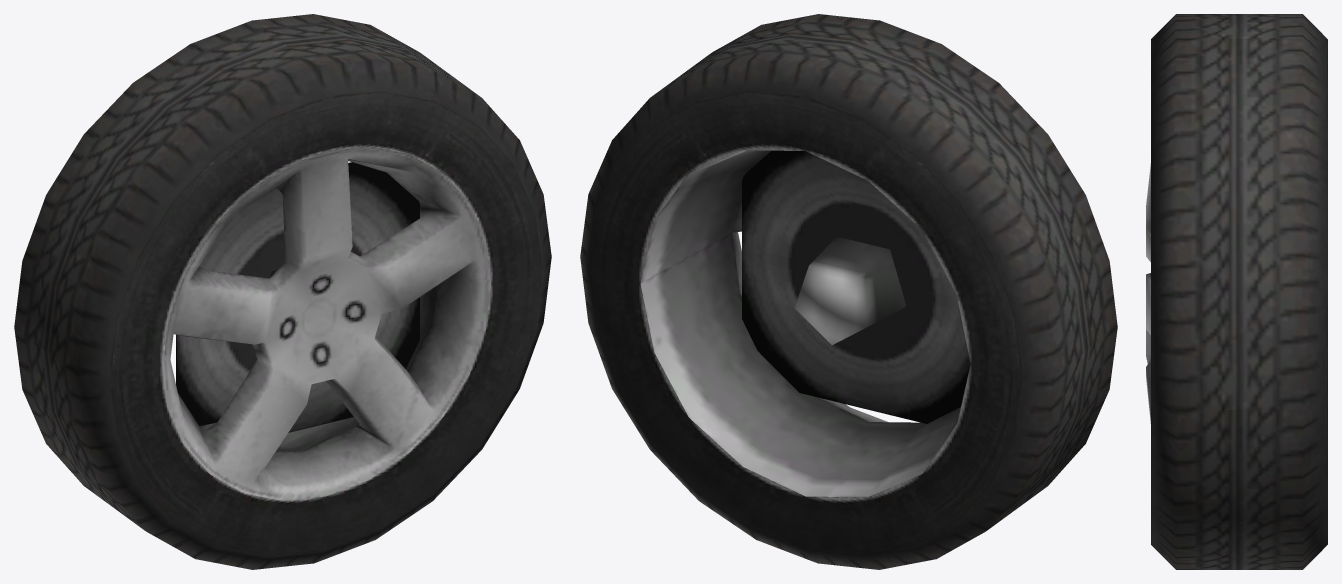
File: V_A_2DrCoupe_Wheels_15_SkeletalMesh3_SkeletalMesh_30.psk.glb
3 views of the same model, side by side, from view 1: azimuth 30°, elevation 25°; view 2: azimuth 150°, elevation 25°; view 3: azimuth 270°, elevation 25° (orthographic).
Size of the model in its own units: 68.85 by 68.85 by 22.43.
Materials: 1 (1 with a texture image).
